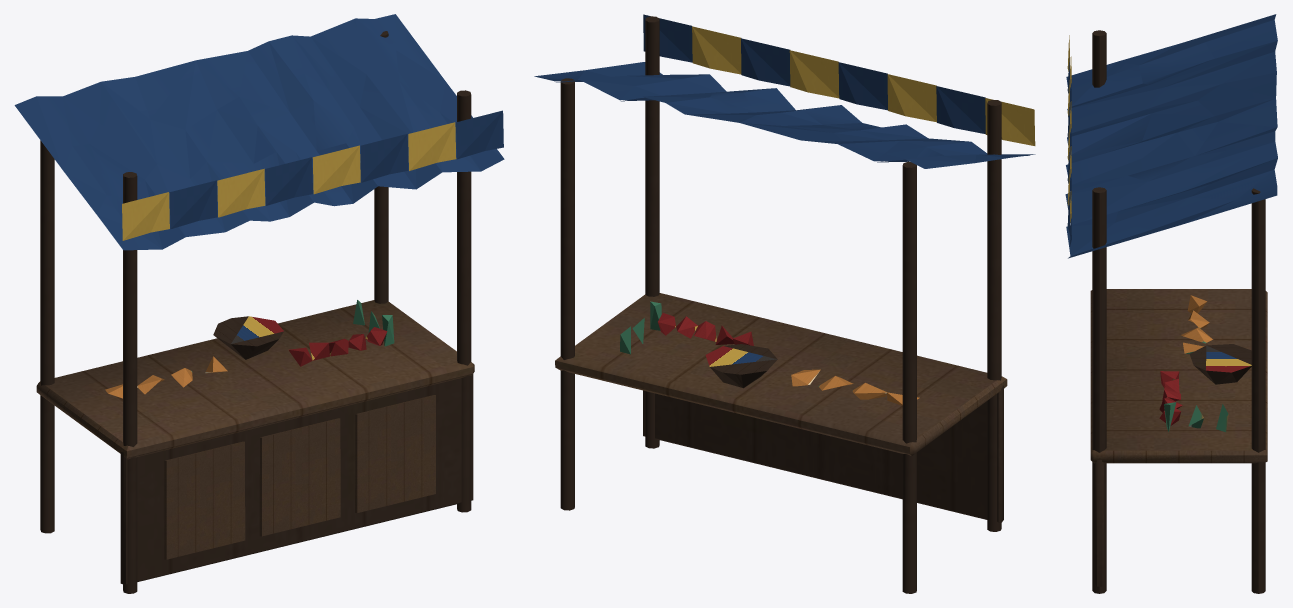
File: market_stall_lod2.glb
The picture shows the model from 3 angles, left to right: view 1: azimuth 30°, elevation 25°; view 2: azimuth 150°, elevation 25°; view 3: azimuth 270°, elevation 25°; orthographic projection. The views are drawn at different scales.
Visible parts, largest first — view 1: market_stall; view 2: market_stall; view 3: market_stall.
Part boxes in pixels (<box>): market_stall: <box>14,14,504,593</box>; market_stall: <box>534,14,1035,593</box>; market_stall: <box>1065,14,1277,593</box>.
Bounding box in the file's own units: 2.4 × 2.58 × 1.2.
1 material, 1 textured.
